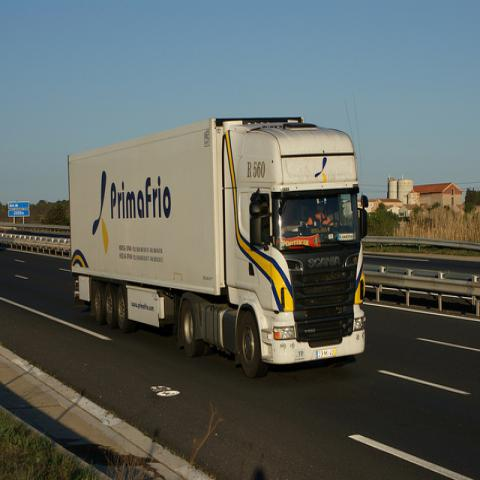truck: (69, 116, 366, 377)
